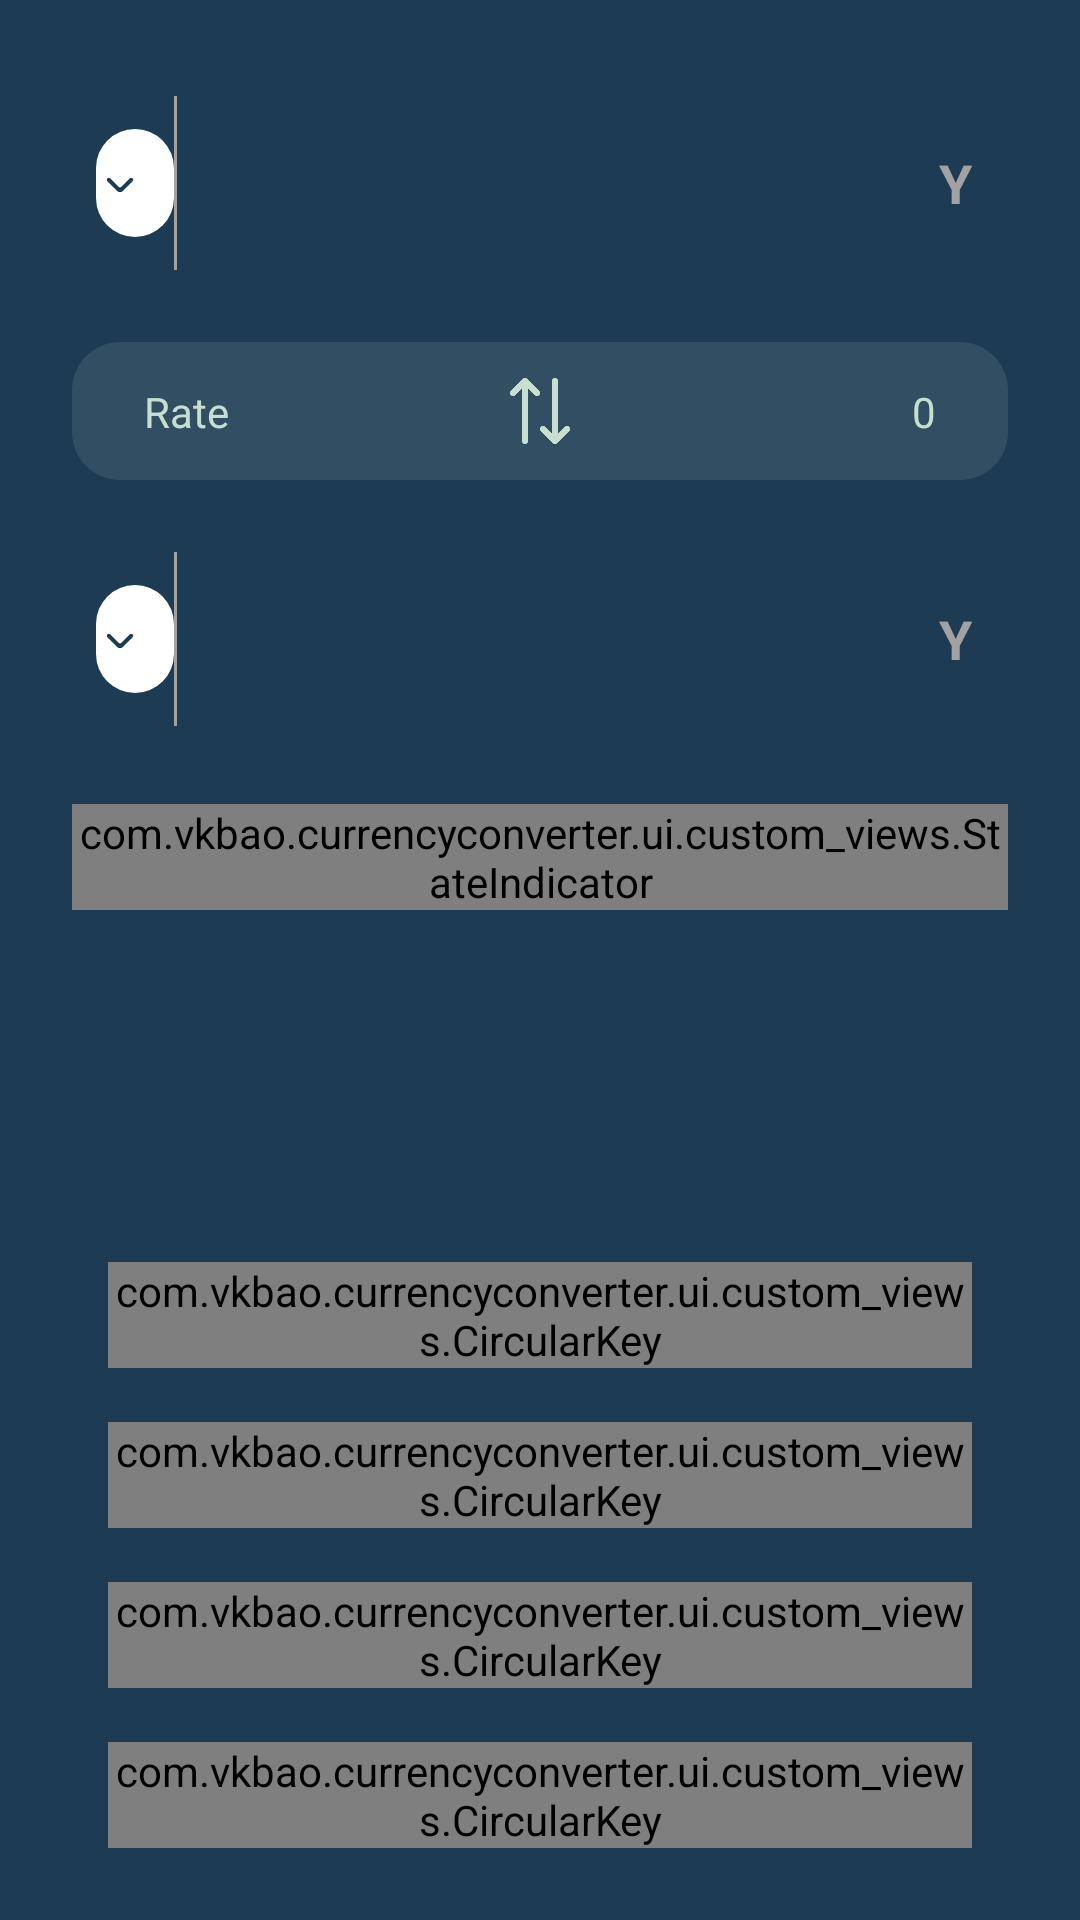

Named icons in this screenshot (1080 × 1920) and their bounding boxes, (x1, y1, x2, y2):
up down: (510, 378, 570, 444)
